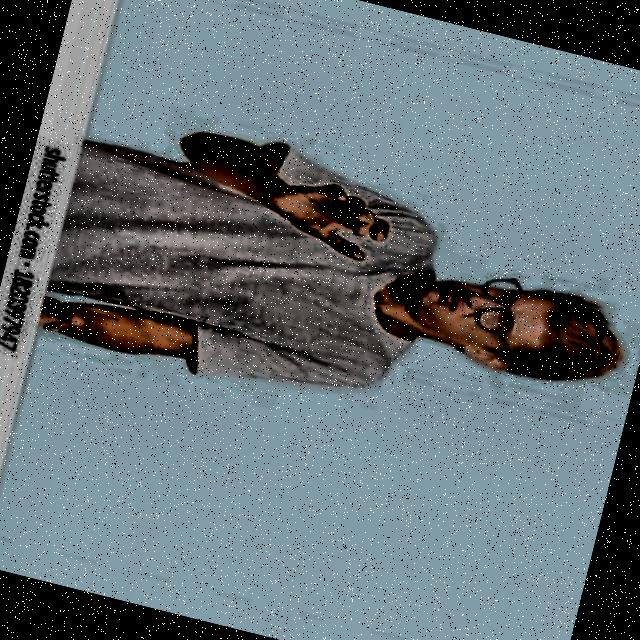disgust: (361, 231, 640, 417)
